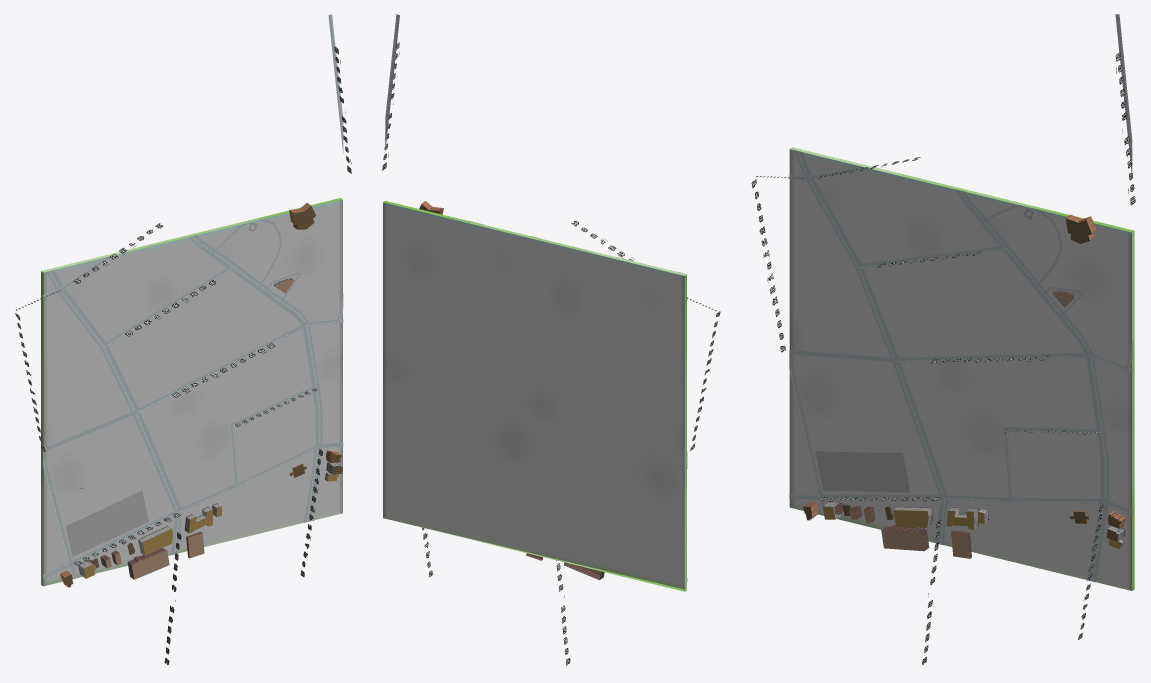
3 views of the same model, side by side, from view 1: azimuth 30°, elevation 25°; view 2: azimuth 150°, elevation 25°; view 3: azimuth 330°, elevation 25° (orthographic). The views are drawn at different scales.
Visible parts, largest first — view 1: POLYGON, POLYLINE, BUILDING, FONT; view 2: POLYGON, FONT, POLYLINE, BUILDING; view 3: POLYGON, POLYLINE, BUILDING, FONT.
Boxes of the visible parts, x1,y1,x2,y2 form: POLYGON: (41, 198, 342, 586); POLYLINE: (43, 14, 343, 579); BUILDING: (60, 203, 342, 587); FONT: (15, 46, 351, 664); POLYGON: (383, 201, 686, 591); FONT: (382, 42, 720, 665); POLYLINE: (385, 14, 687, 581); BUILDING: (419, 201, 666, 587); POLYGON: (789, 147, 1134, 590); POLYLINE: (789, 14, 1132, 582); BUILDING: (803, 214, 1125, 558); FONT: (751, 52, 1135, 664).
Size of the model in its own units: 678 by 1187 by 29.
